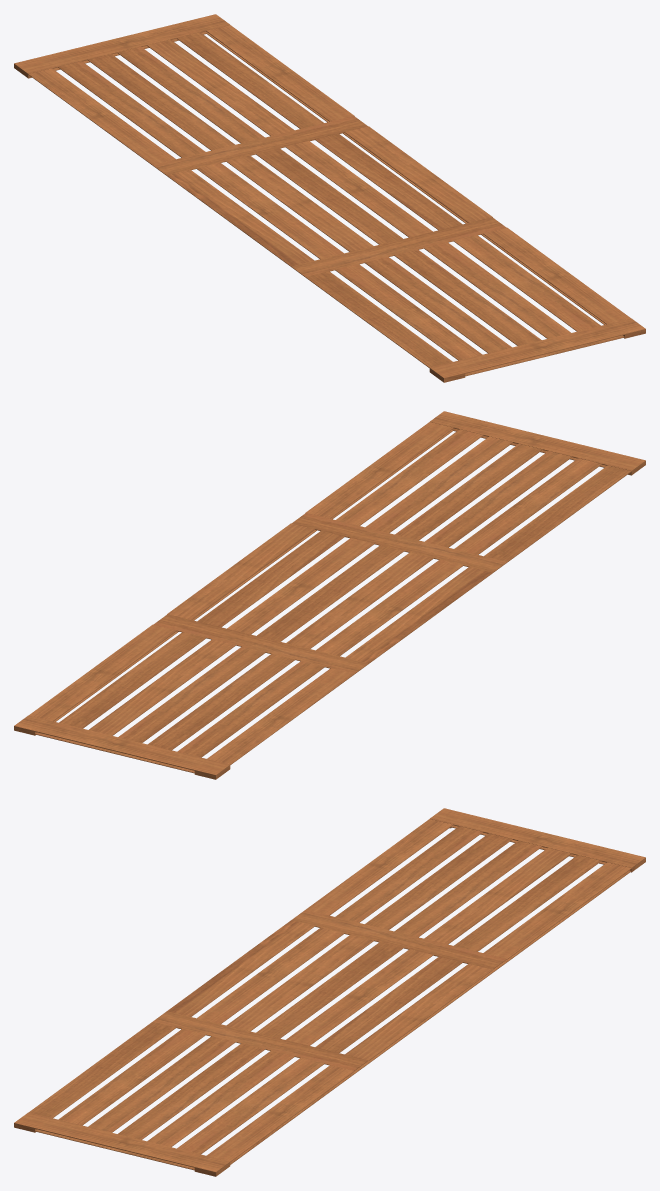
File: Pool_Bench.fbx
The picture shows the model from 3 angles, top to bottom: view 1: azimuth 30°, elevation 25°; view 2: azimuth 150°, elevation 25°; view 3: azimuth 330°, elevation 25°; orthographic projection.
Parts seen in each view (by area): view 1: Pool_Bench; view 2: Pool_Bench; view 3: Pool_Bench.
Part boxes in pixels (x1=…): Pool_Bench: x1=14, y1=14, x2=645, y2=382; Pool_Bench: x1=14, y1=411, x2=645, y2=779; Pool_Bench: x1=14, y1=808, x2=645, y2=1176.
Size of the model in its own units: 65.1 by 1.43 by 240.
